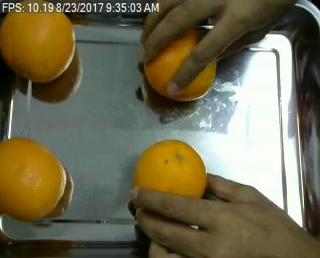Orange: (1, 137, 67, 220), (1, 12, 76, 82)
